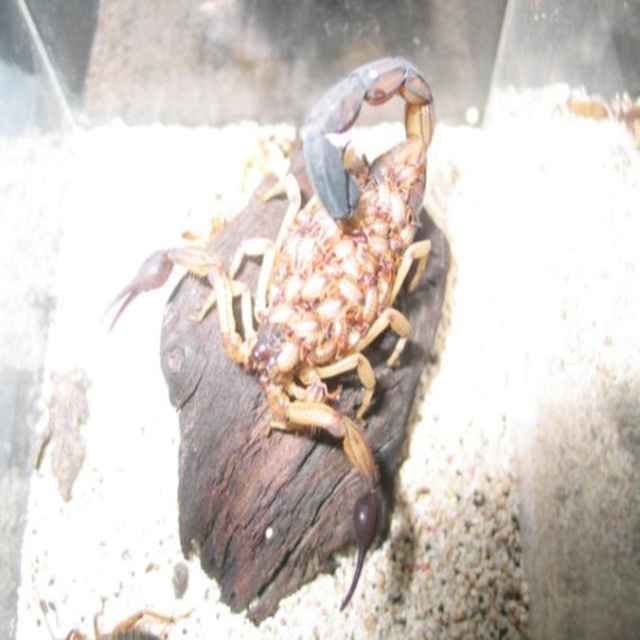Scorpion: (102, 54, 433, 612), (59, 610, 183, 639)
